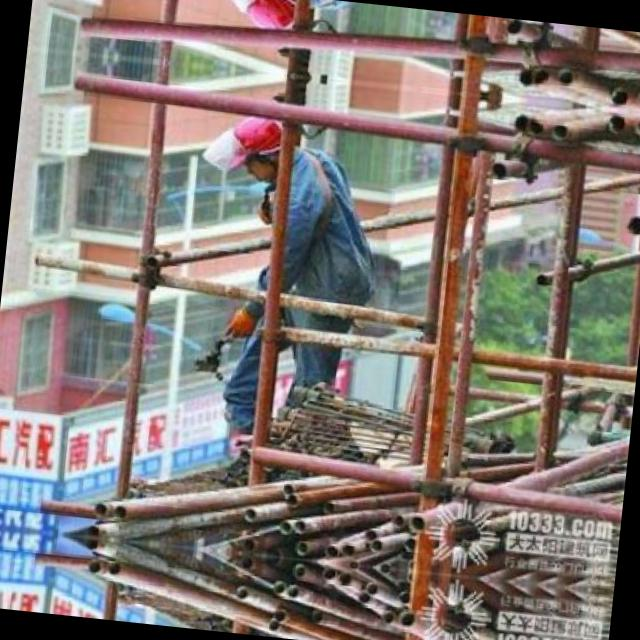helmet: (220, 109, 290, 183), (234, 0, 303, 34)
